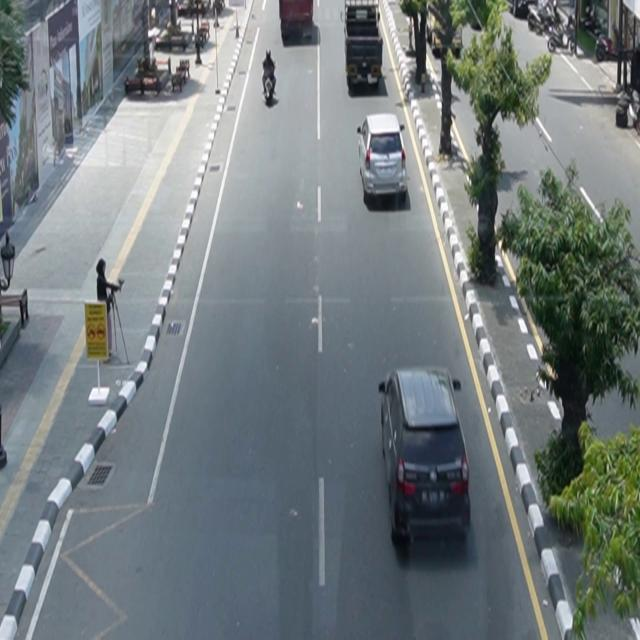car: (379, 366, 472, 547), (357, 113, 409, 203)
truck: (343, 1, 384, 90)
